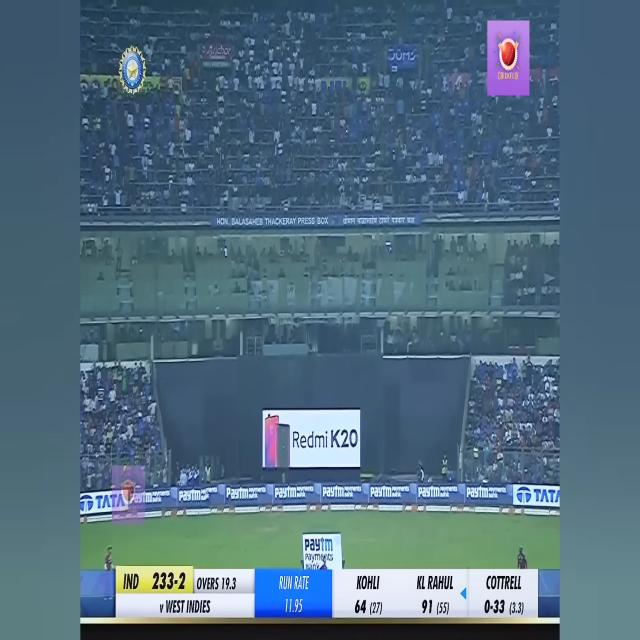fully_visible: (370, 478, 392, 504), (322, 482, 345, 505), (274, 481, 296, 502), (226, 484, 248, 504), (178, 487, 202, 505), (466, 484, 488, 503), (419, 482, 440, 500)
